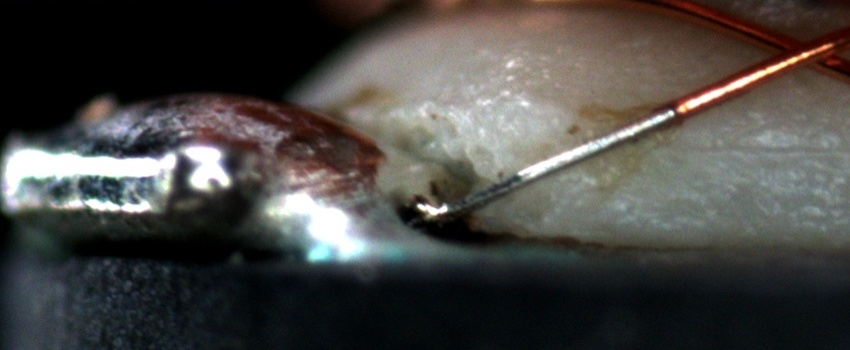CL: (744, 23, 843, 80)
DL: (646, 117, 850, 181)
TS: (416, 105, 677, 223)
